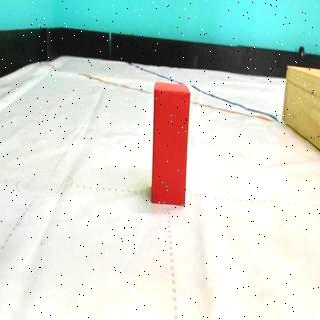redbox: (152, 80, 190, 206)
